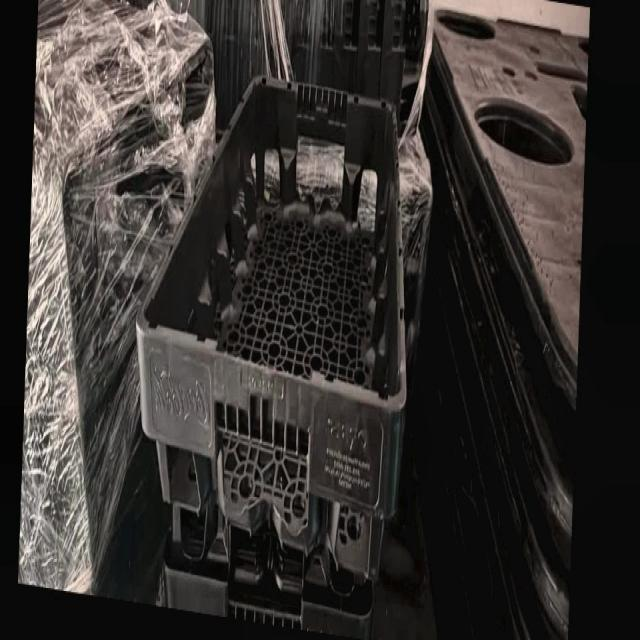non-igps: (133, 68, 410, 590), (417, 0, 591, 640), (153, 487, 378, 640)
